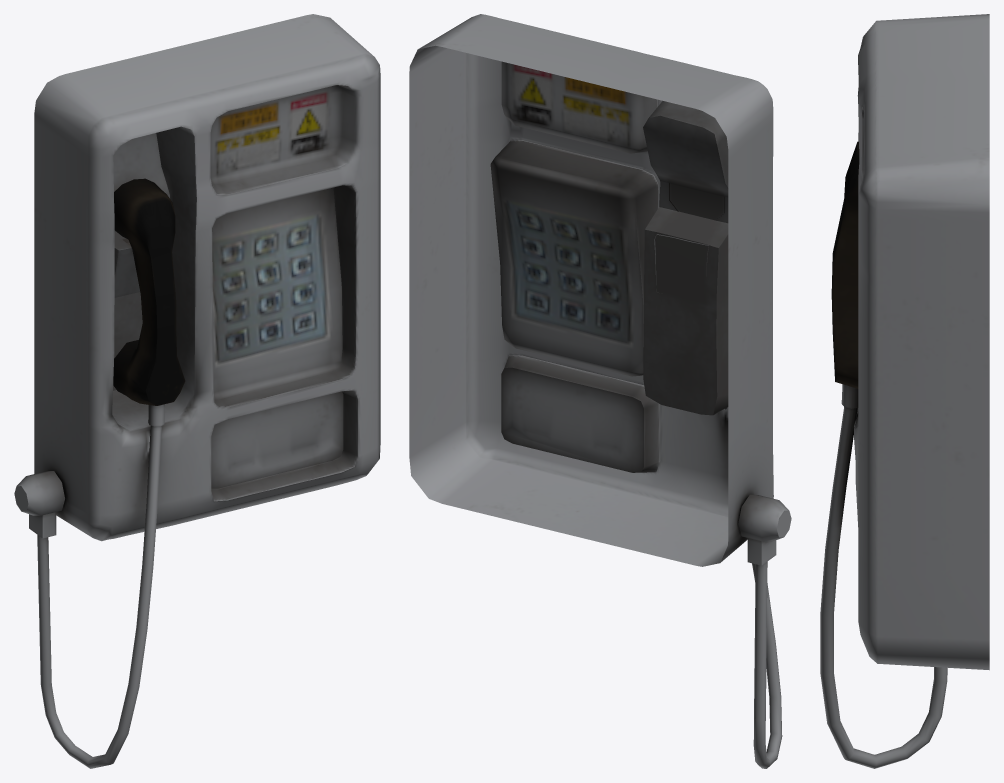
The model's file is Payphone.fbx.
3 views of the same model, side by side, from view 1: azimuth 30°, elevation 25°; view 2: azimuth 150°, elevation 25°; view 3: azimuth 270°, elevation 25° (orthographic). The views are drawn at different scales.
Parts seen in each view (by area): view 1: Payphone; view 2: Payphone; view 3: Payphone.
Part boxes in pixels (<box>): Payphone: <box>14,14,380,768</box>; Payphone: <box>409,14,791,768</box>; Payphone: <box>820,14,989,768</box>.
Bounding box in the file's own units: 38.01 × 70.36 × 14.17.
Materials: 1 (1 with a texture image).
